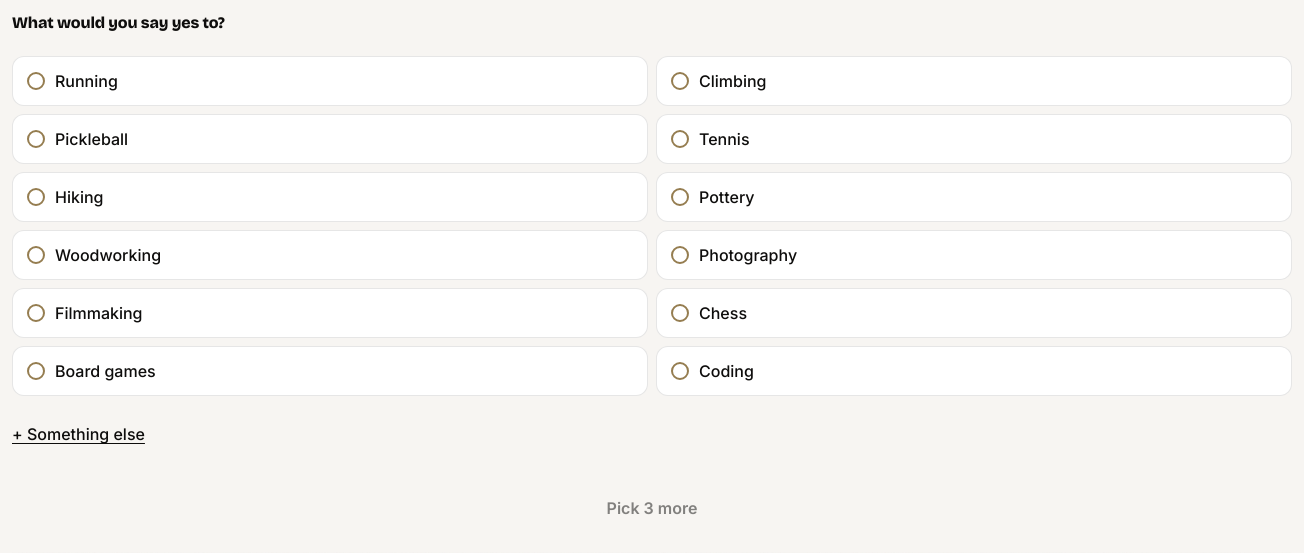
Test: picks (screen 7) › says how many are missing as they are picked, and stamps or unstamps Stubby
This screenshot has width=1304, height=553.
Click the button "Running" at coordinates (86, 81), box top-left (12, 56), bottom-right (648, 106)
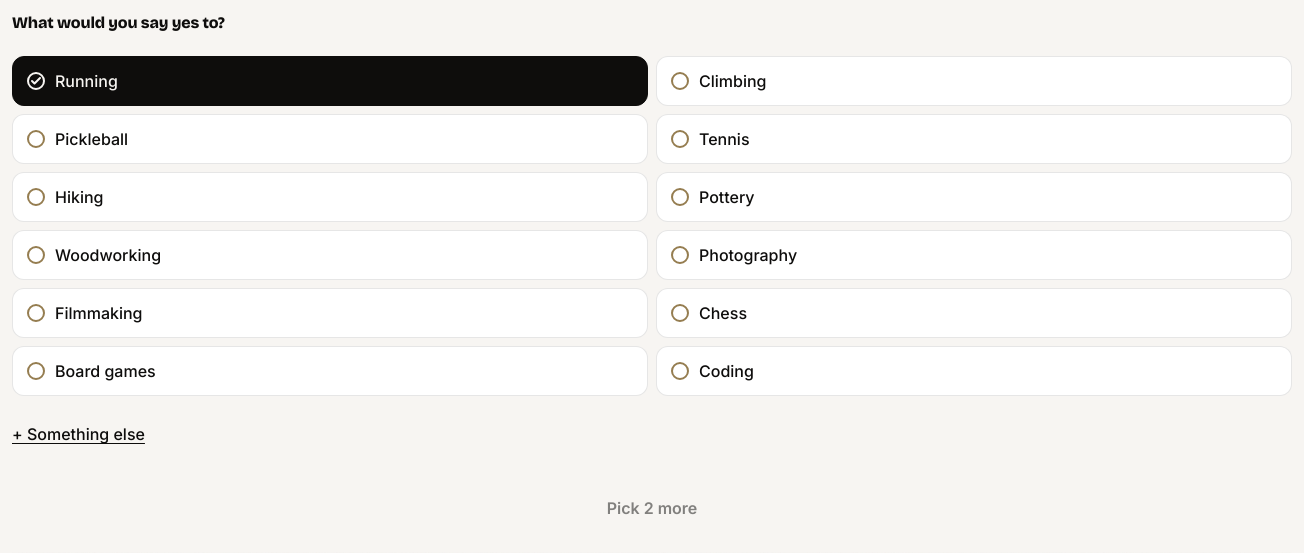
Check: the button "Pick 2 more" is shown, box top-left (12, 480), bottom-right (1292, 536)
Click the button "Running" at coordinates (86, 81), box top-left (12, 56), bottom-right (648, 106)
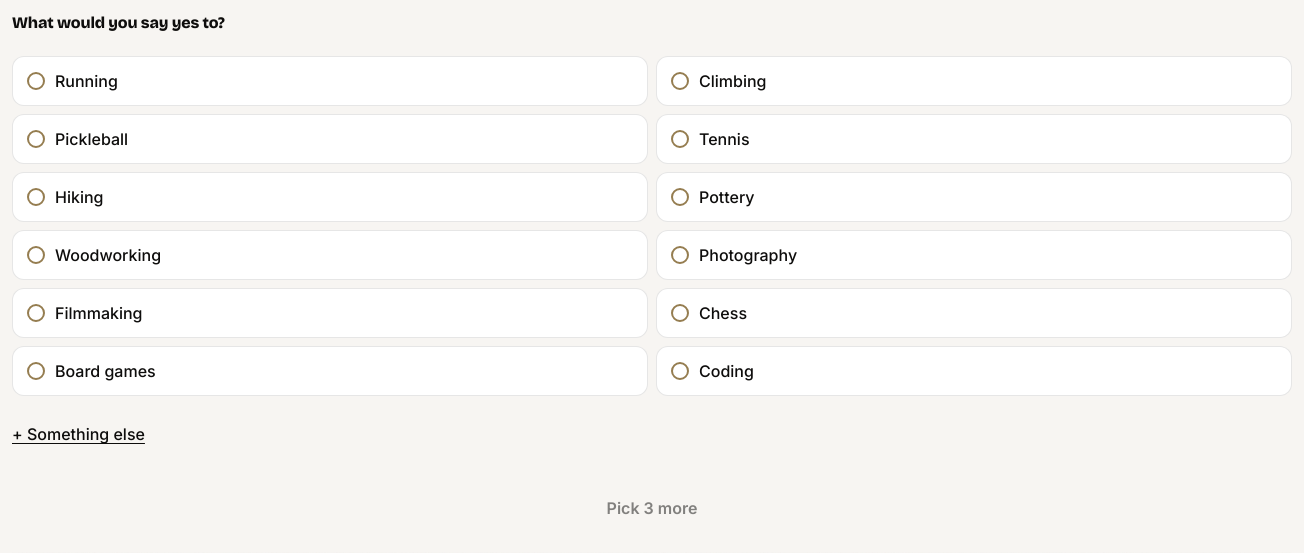
Check: the button "Pick 3 more" is shown, box top-left (12, 480), bottom-right (1292, 536)
